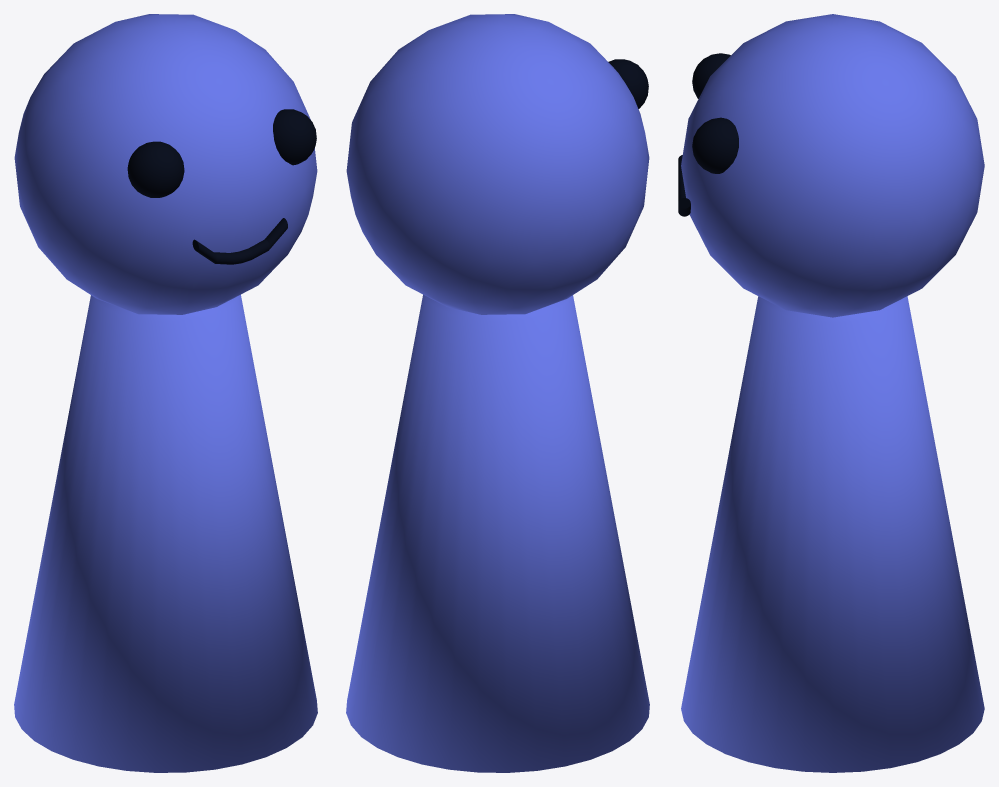
The model's file is agent1.fbx.
3 renders of one model, left to right at view 1: azimuth 30°, elevation 25°; view 2: azimuth 150°, elevation 25°; view 3: azimuth 270°, elevation 25°, orthographic.
Visible parts, largest first — view 1: Body, Head, Eye2, Eye1, Mouth; view 2: Body, Head, Eye2; view 3: Body, Head, Eye1, Eye2.
Part boxes in pixels (x1,y1,x2,y2): Body: (14, 294, 317, 772); Head: (14, 14, 317, 314); Eye2: (127, 141, 184, 197); Eye1: (273, 109, 316, 165); Mouth: (192, 218, 287, 264); Body: (346, 294, 649, 772); Head: (346, 14, 649, 314); Eye2: (608, 59, 648, 108); Body: (681, 296, 984, 772); Head: (681, 14, 984, 317); Eye1: (692, 117, 738, 173); Eye2: (692, 53, 730, 98).
Size of the model in its own units: 200 by 494 by 202.
